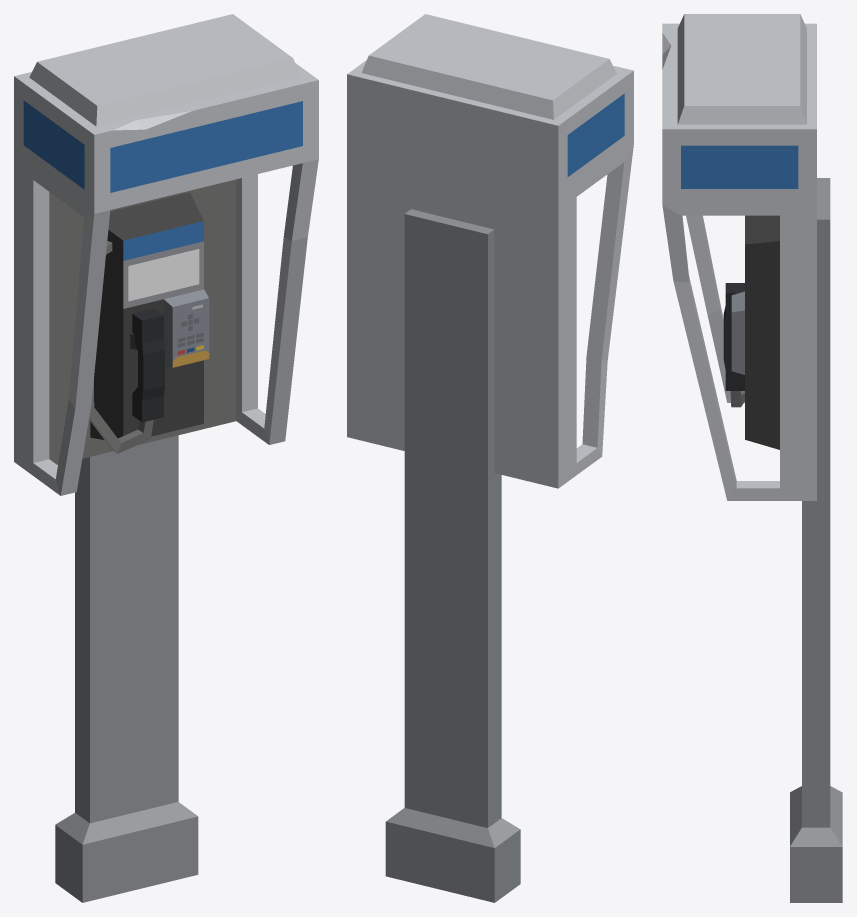
File: Phone2.fbx
3 views of the same model, side by side, from view 1: azimuth 30°, elevation 25°; view 2: azimuth 150°, elevation 25°; view 3: azimuth 270°, elevation 25° (orthographic). The views are drawn at different scales.
Parts seen in each view (by area): view 1: Phone2; view 2: Phone2; view 3: Phone2.
Boxes of the visible parts, bbox=[...] form: Phone2: bbox=[14, 14, 318, 902]; Phone2: bbox=[347, 14, 633, 902]; Phone2: bbox=[662, 14, 842, 902].
Size of the model in its own units: 55.39 by 200 by 39.93.
1 material, 1 textured.
